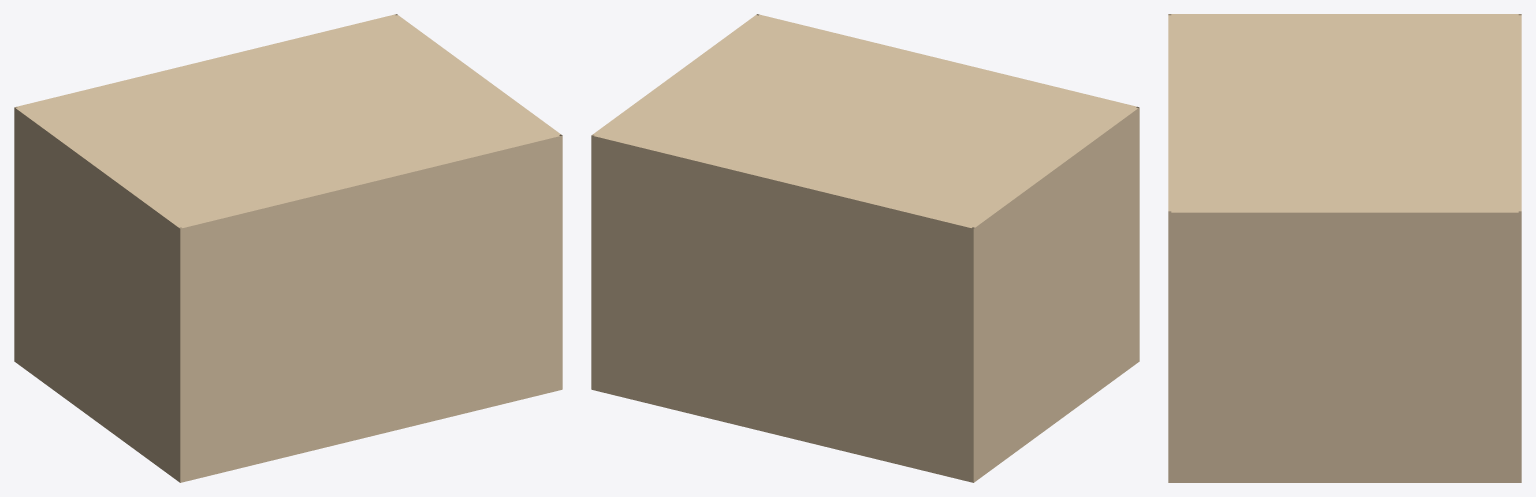
Rendered from fefco-0201_400x300x250_B_right.glb.
3 renders of one model, left to right at view 1: azimuth 30°, elevation 25°; view 2: azimuth 150°, elevation 25°; view 3: azimuth 270°, elevation 25°, orthographic. The views are drawn at different scales.
Visible parts, largest first — view 1: box; view 2: box; view 3: box.
Boxes of the visible parts, bbox=[...] form: box: bbox=[14, 14, 562, 482]; box: bbox=[591, 14, 1139, 482]; box: bbox=[1168, 14, 1521, 482].
Bounding box in the file's own units: 0.403 × 0.256 × 0.303.
